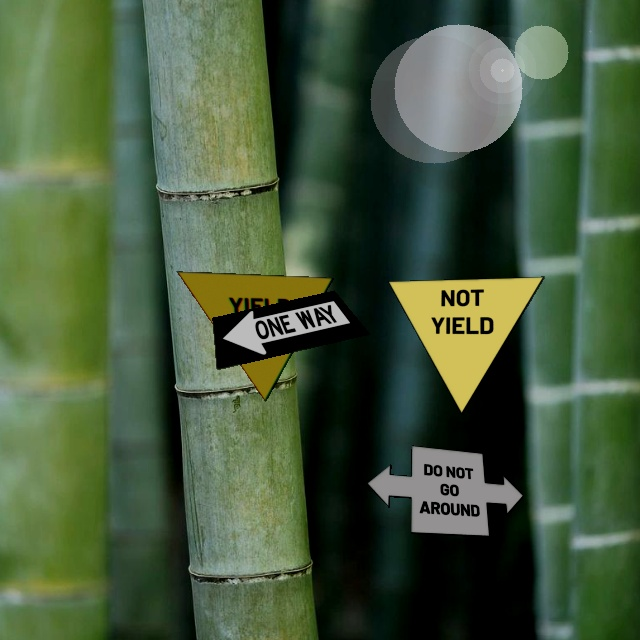DO_NOT_GO_AROUND: (366, 445, 524, 537)
NOT_YIELD: (387, 276, 545, 415)
ONE_WAY_ left: (212, 290, 370, 370)
YIELD: (176, 271, 334, 402)
